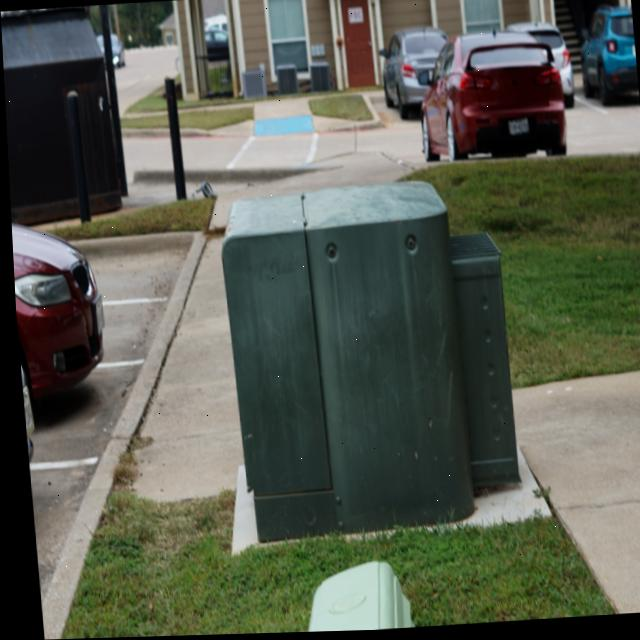Automobile: (9, 226, 101, 440), (420, 35, 564, 163), (382, 30, 446, 121), (507, 25, 573, 111), (581, 9, 637, 108)
Obstacle: (218, 184, 544, 554), (300, 563, 407, 634)
Road: (183, 129, 411, 172), (132, 138, 170, 173)
Sidewalk: (508, 374, 640, 617), (127, 238, 238, 502), (207, 99, 355, 137)
